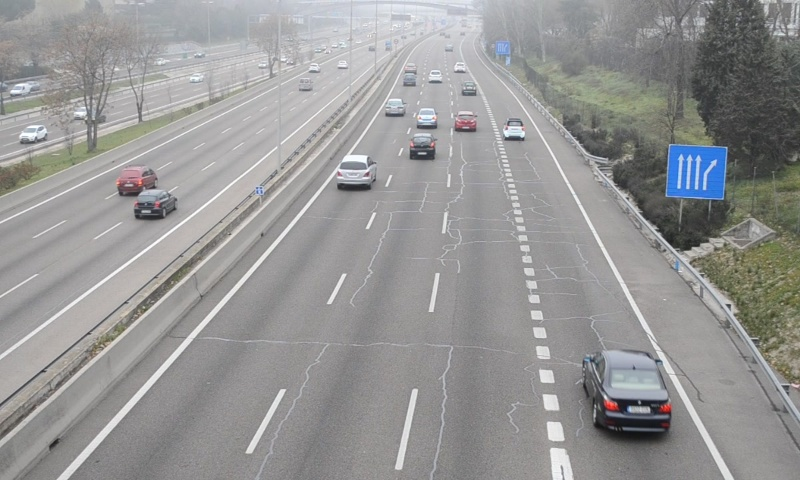car: (582, 348, 671, 434), (336, 154, 372, 187), (408, 132, 437, 160), (503, 117, 526, 142), (454, 110, 478, 133), (416, 107, 438, 129), (384, 98, 406, 117), (460, 80, 477, 96), (401, 74, 418, 87)
